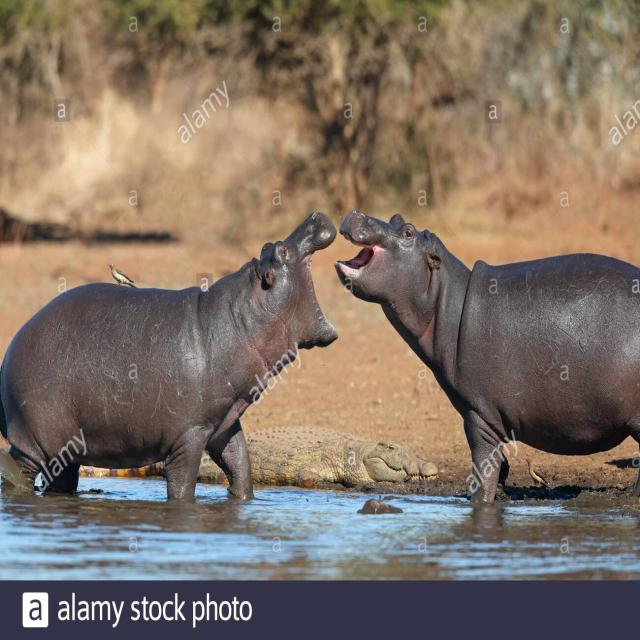hippopotamus: (0, 212, 337, 499), (335, 211, 640, 502)
